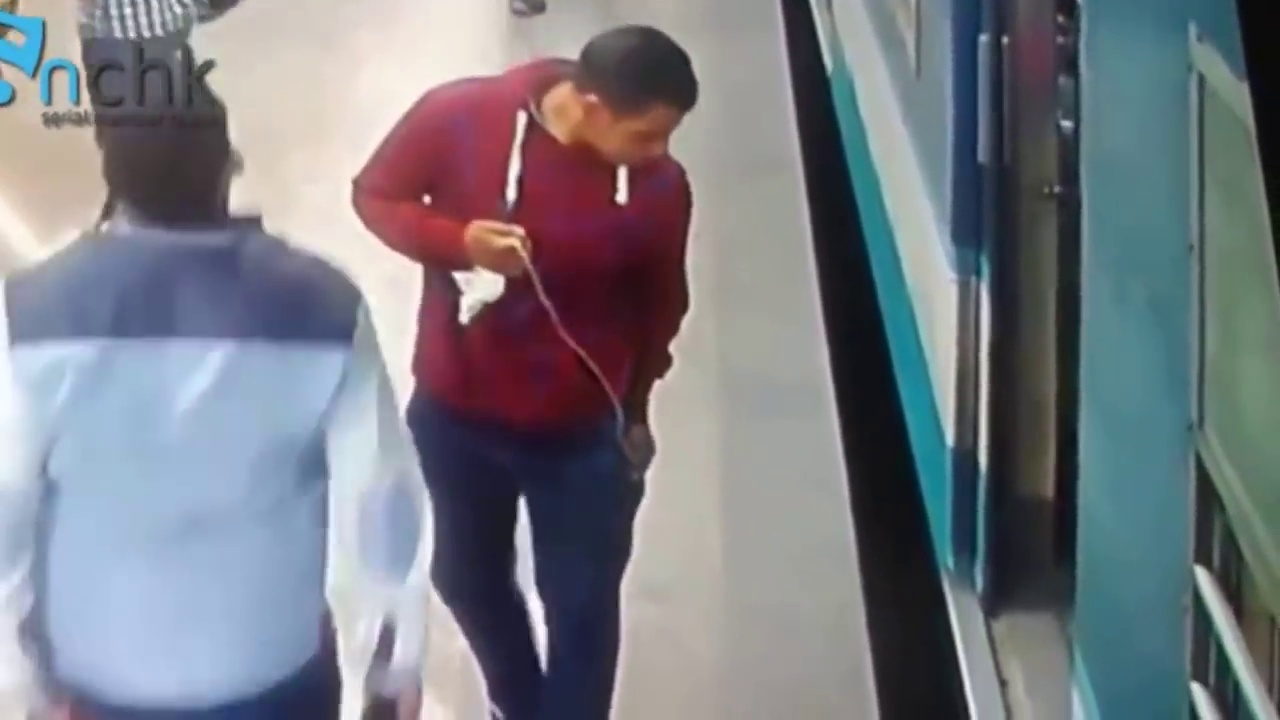face: (610, 83, 683, 180)
